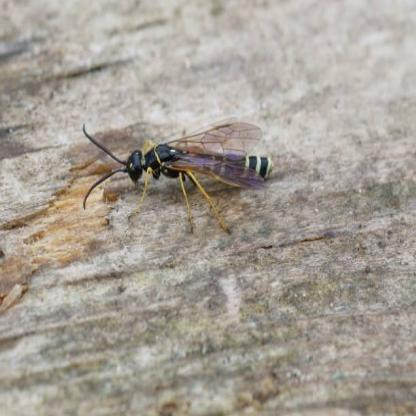sawfly: (74, 107, 279, 244)
